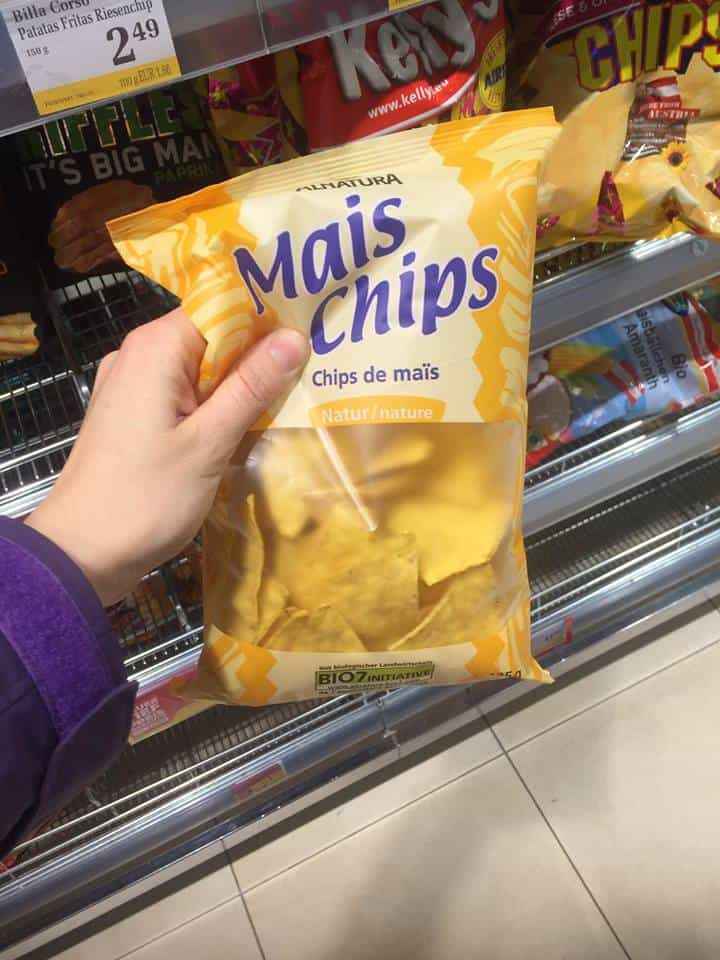chip: (163, 111, 562, 718)
